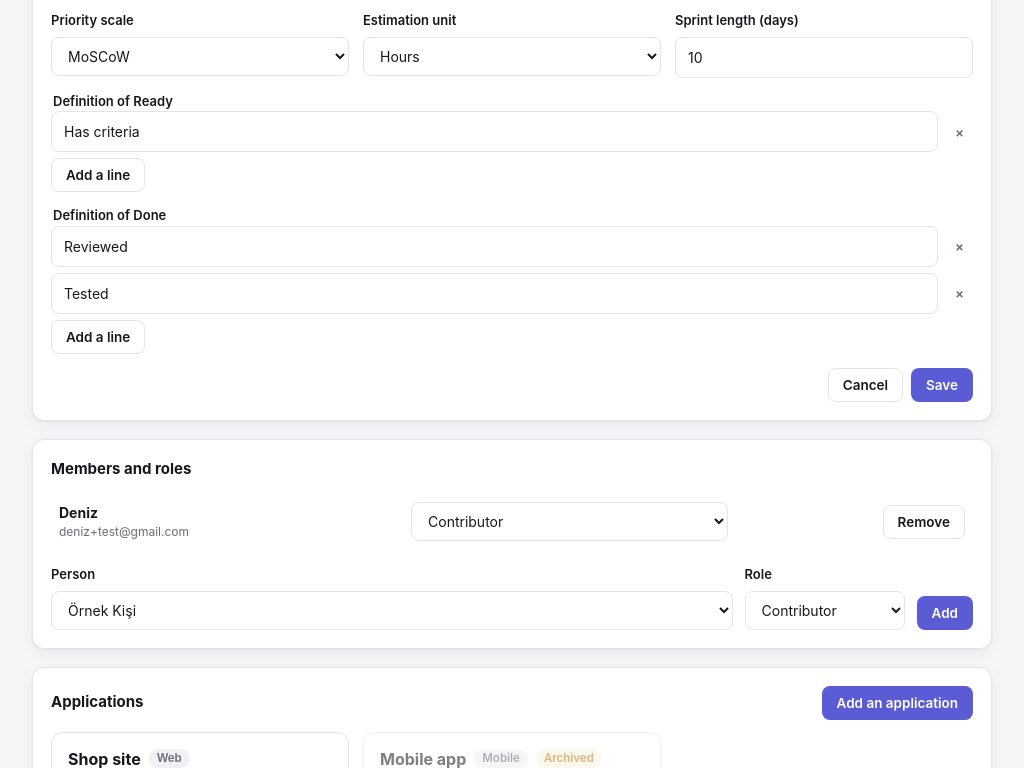
Test: the project page: editing › opens in edit mode from the card's Edit link, and Cancel closes it
(page scrolled)
Click the button "Cancel".
click(865, 384)  # box [828,368,903,402]
(page scrolled)
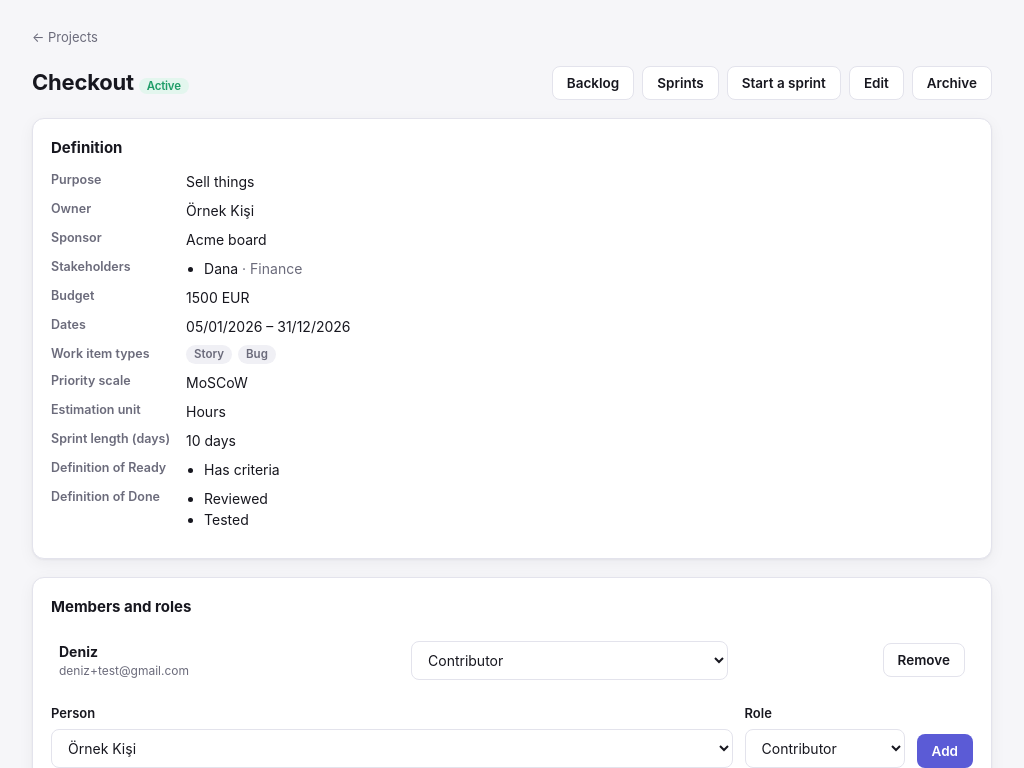
Expected: the heading "Definition" is shown, [51,136,122,159]
